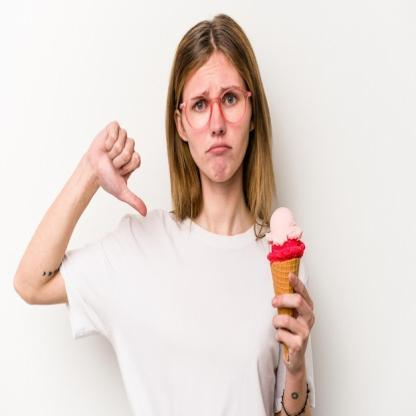thumb_down: (86, 116, 148, 220)
